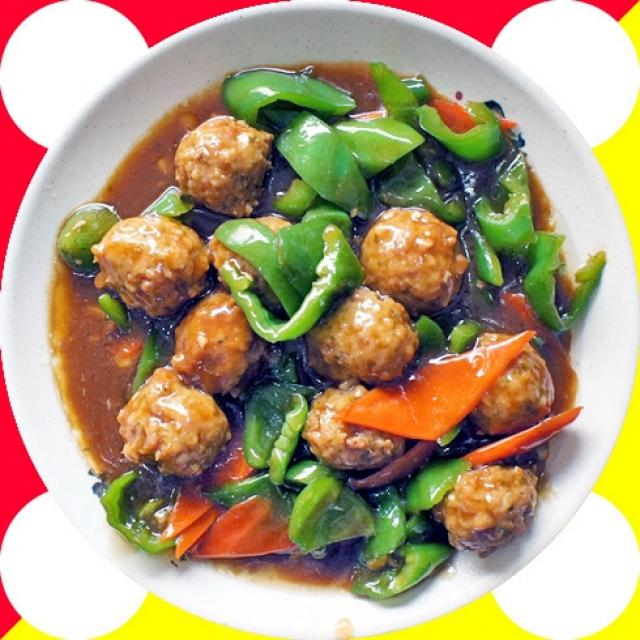meatball: (114, 358, 236, 481), (353, 198, 478, 318), (92, 210, 215, 324), (173, 115, 282, 217)
